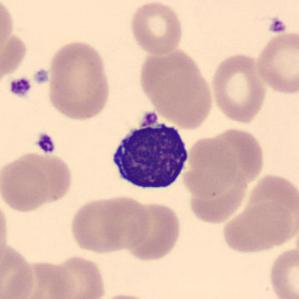Lymphocyte: (103, 111, 194, 194)
Platelets: (34, 131, 58, 155), (8, 76, 33, 99), (267, 16, 288, 36), (140, 107, 161, 127), (32, 66, 50, 84)
RBC: (44, 37, 111, 123), (208, 51, 268, 125), (68, 194, 136, 256), (241, 171, 298, 244), (220, 200, 296, 254), (1, 150, 66, 213), (149, 68, 215, 130), (180, 134, 240, 200), (123, 199, 183, 263), (204, 125, 267, 185), (97, 194, 153, 251), (128, 0, 184, 56), (253, 29, 299, 96), (6, 258, 79, 299), (47, 252, 107, 299), (0, 238, 36, 299), (266, 244, 298, 299), (0, 1, 15, 62), (0, 194, 11, 264), (89, 291, 161, 299)
